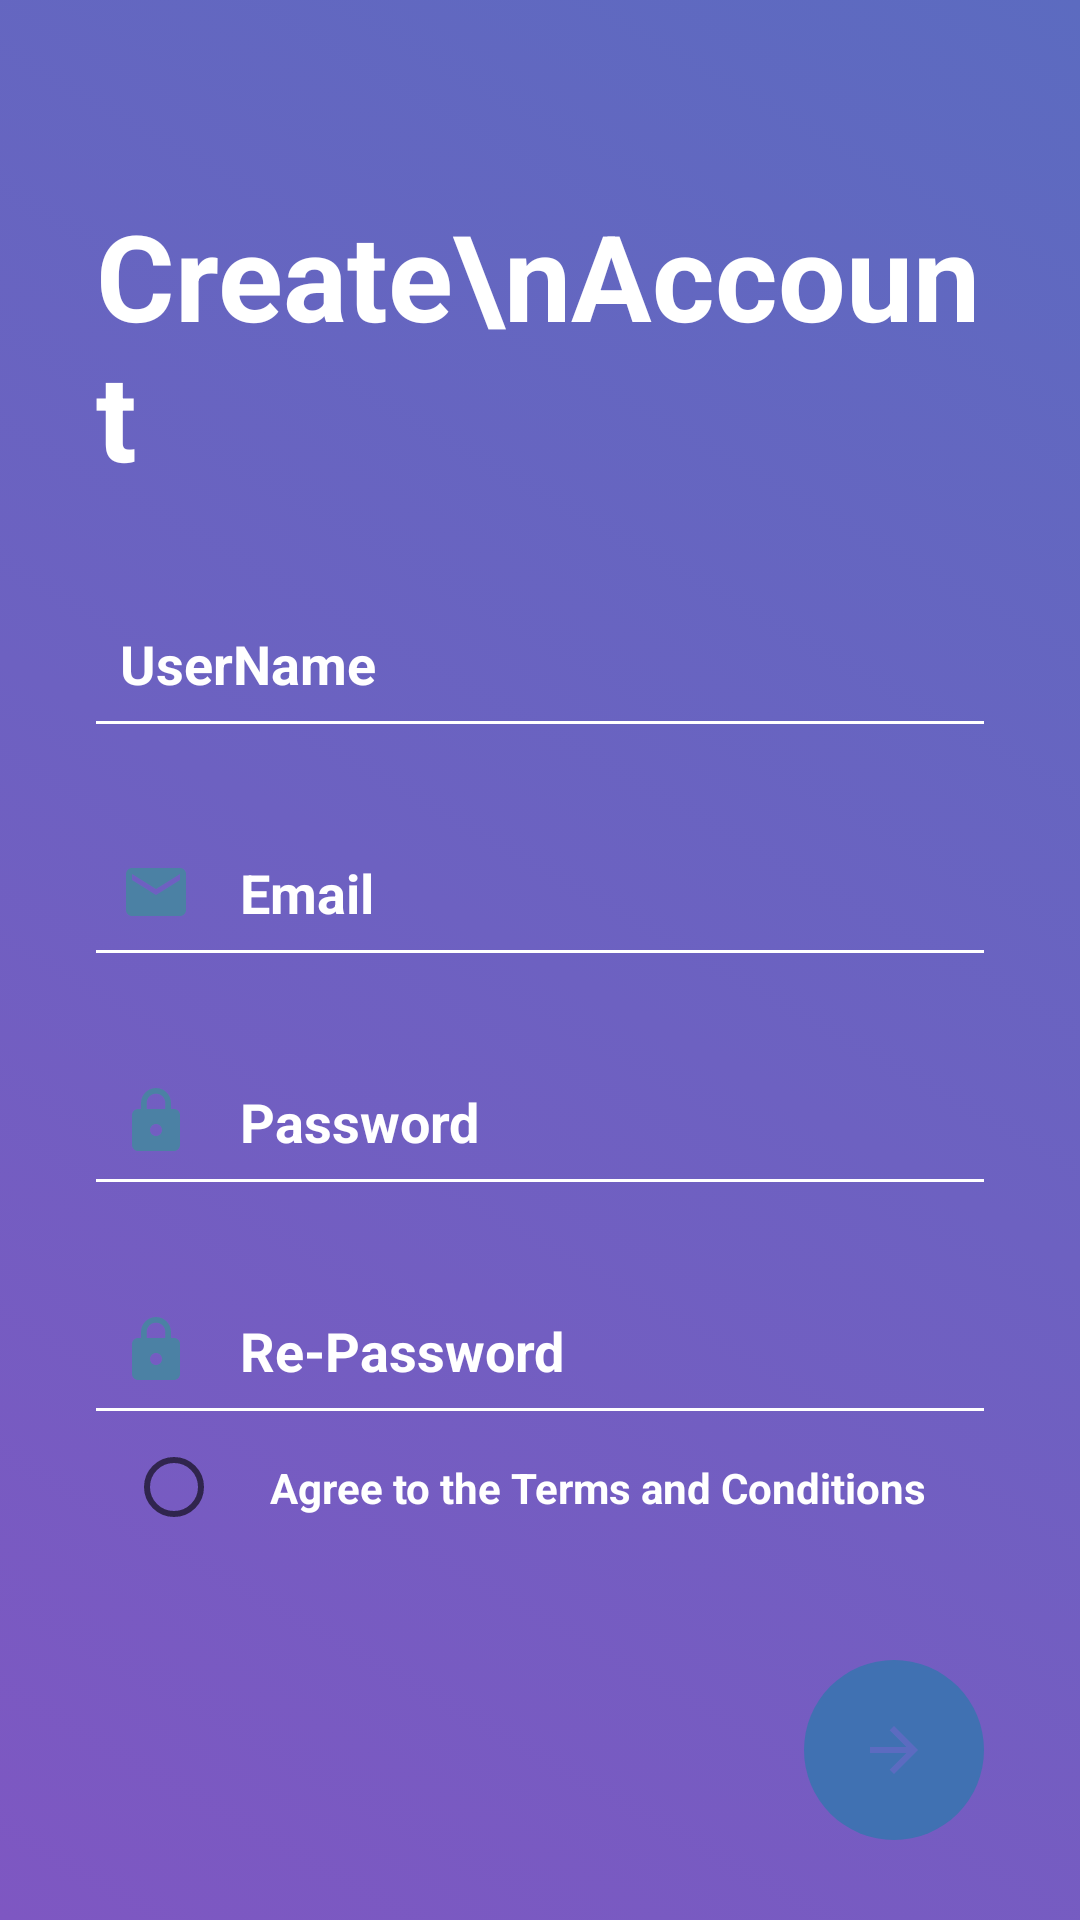

Point at icon controls on the screen. Image size 1080 × 1920, points as [x,y].
arrow forward: [893,1750]
